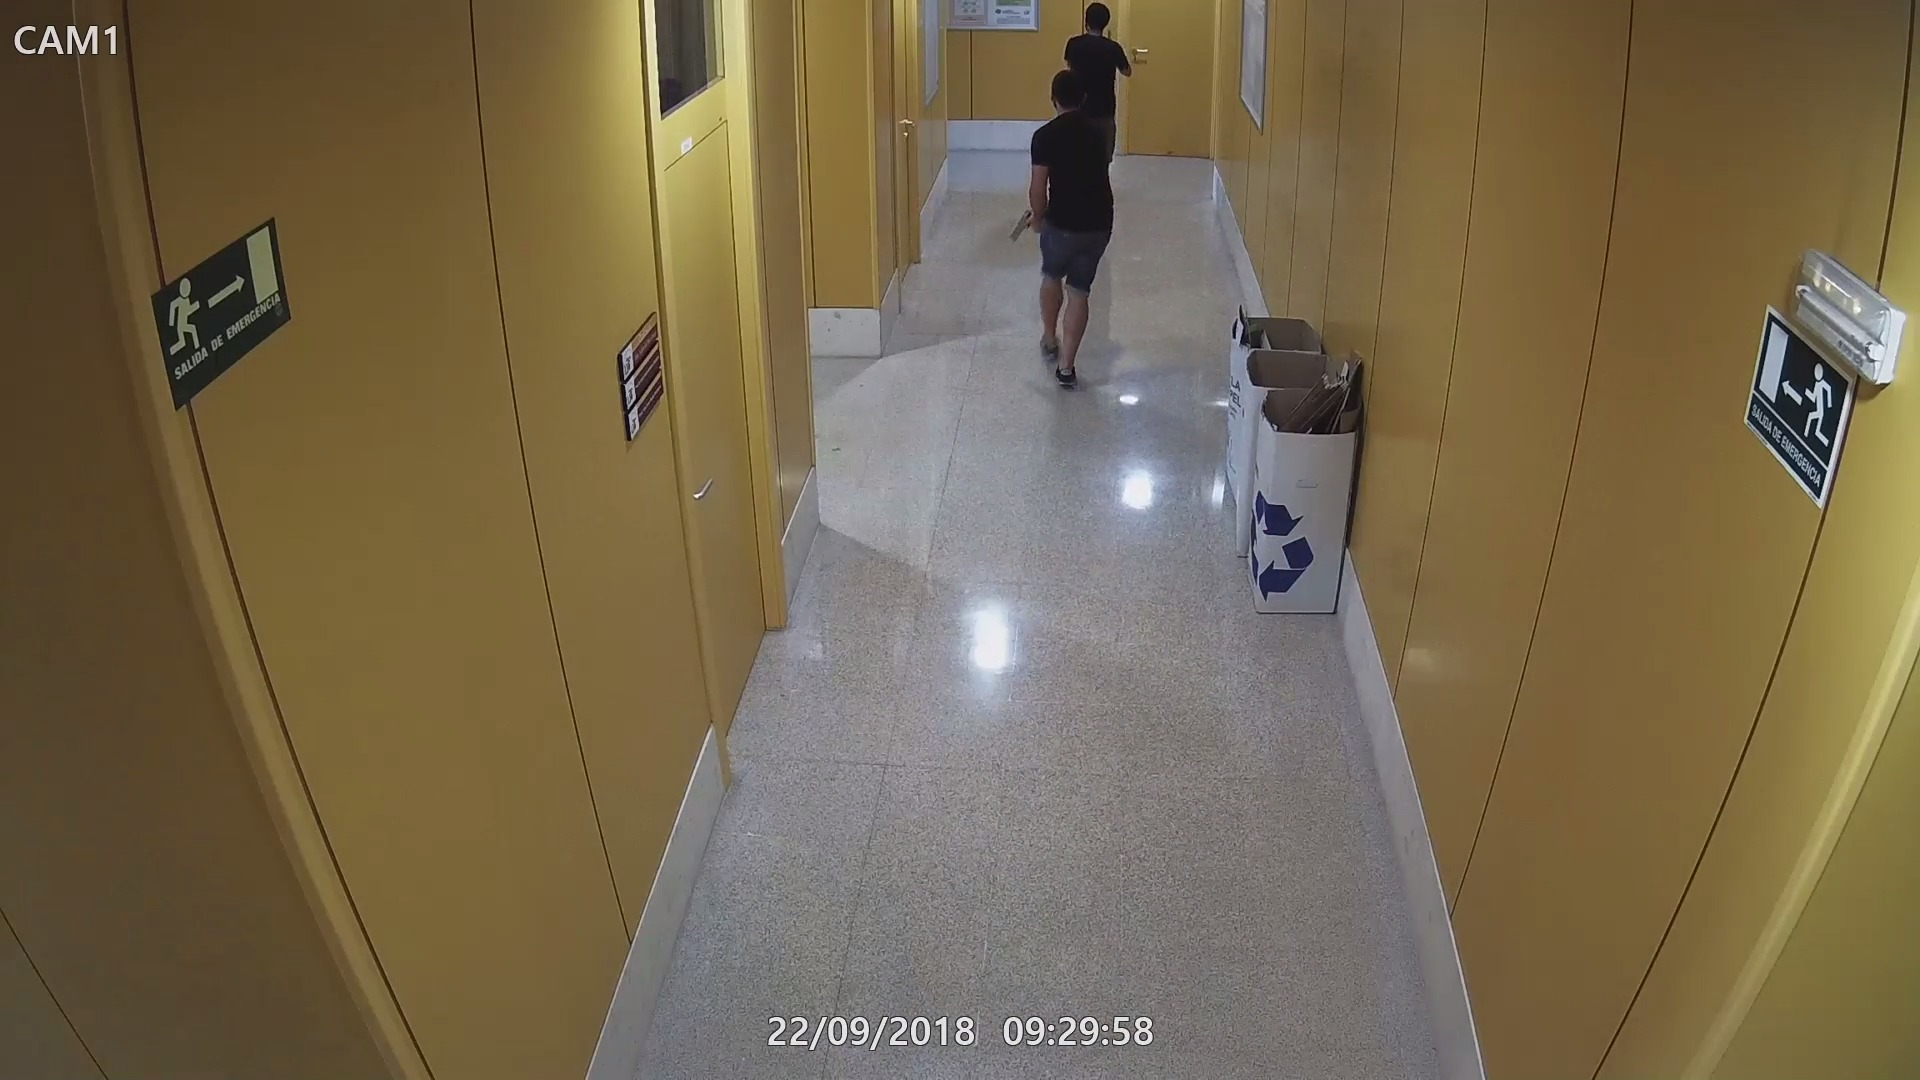Handgun: (1007, 204, 1040, 239)
